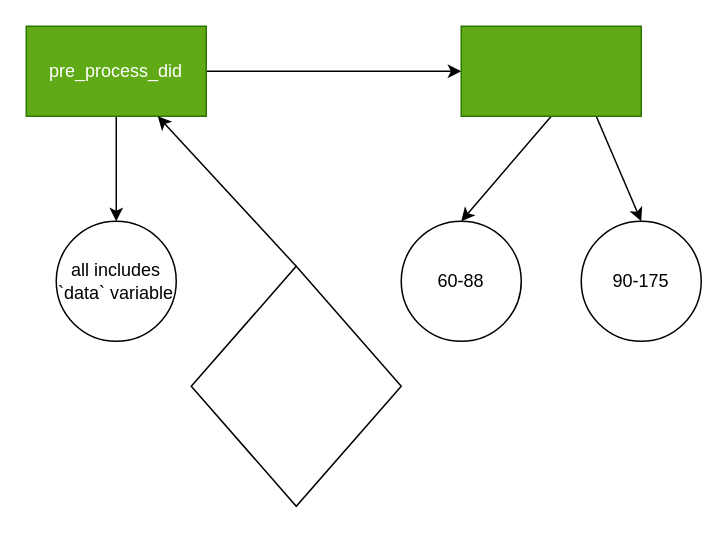
Image size: 728x533. Some labels were removed from this diagram. Here are the shapes that lost their labels. From the top down, the box of each, then its label:
(460, 25, 641, 116): compute_att_gt
(190, 265, 401, 506): makeBalancedPanel
